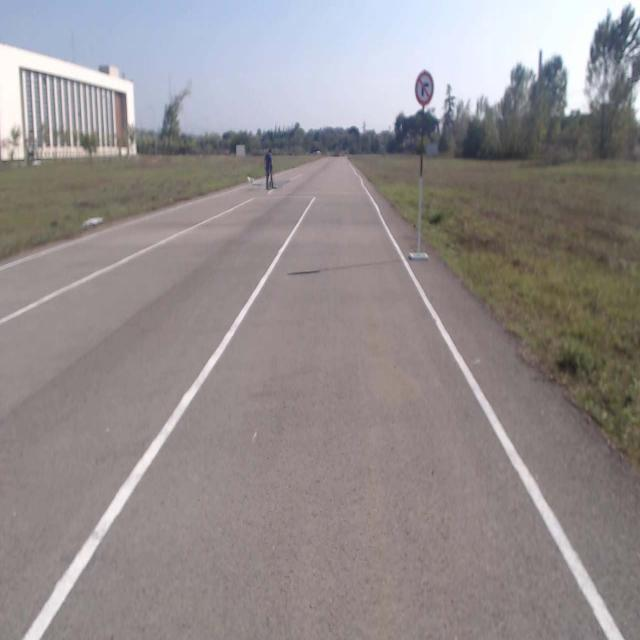sagadonulmez: (415, 72, 433, 105)
